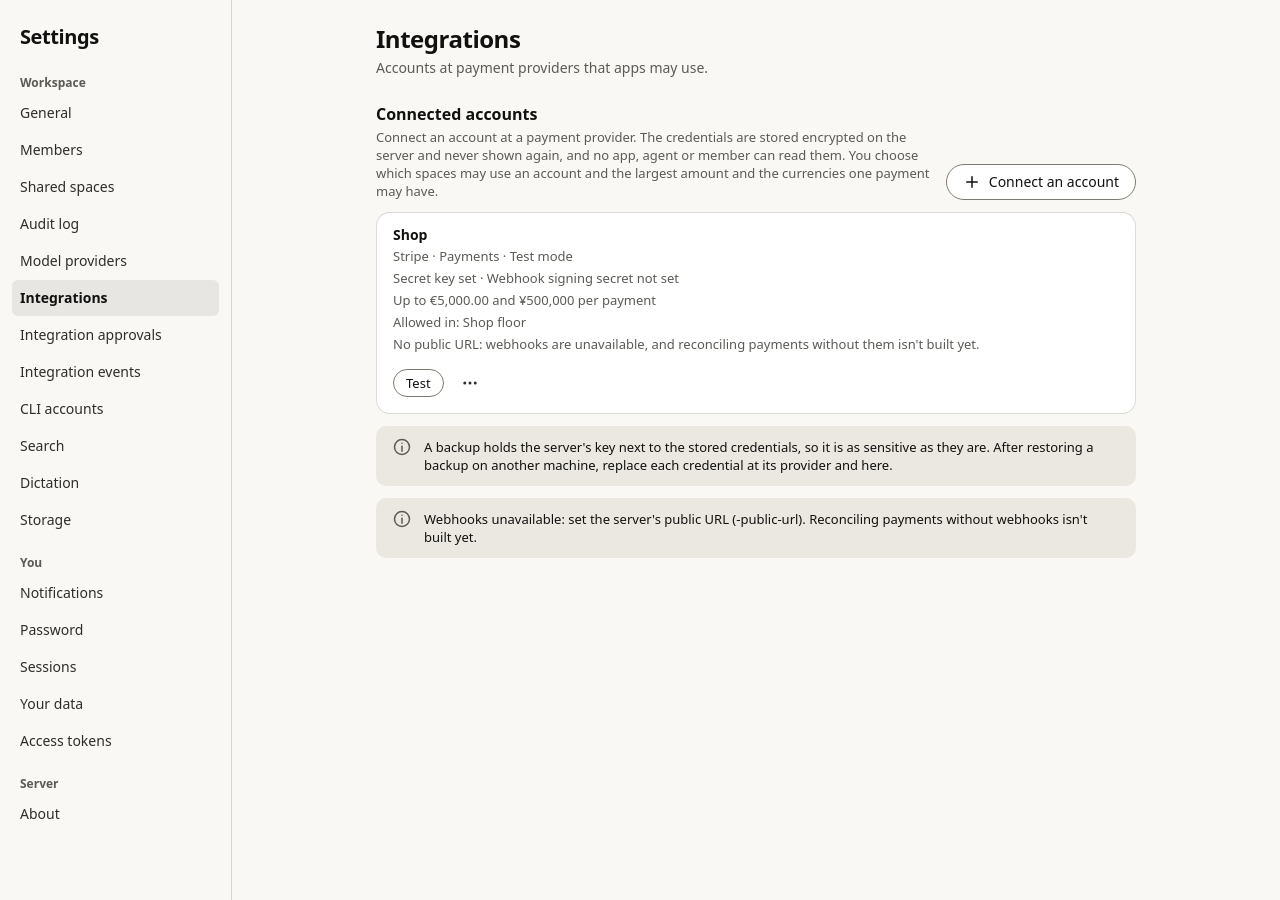
a check shows ok, or the code of what is wrong, never anything of the provider
The image size is (1280, 900).
Click the button with aria-label "Test Shop" at (418, 383), box [393, 369, 444, 397]
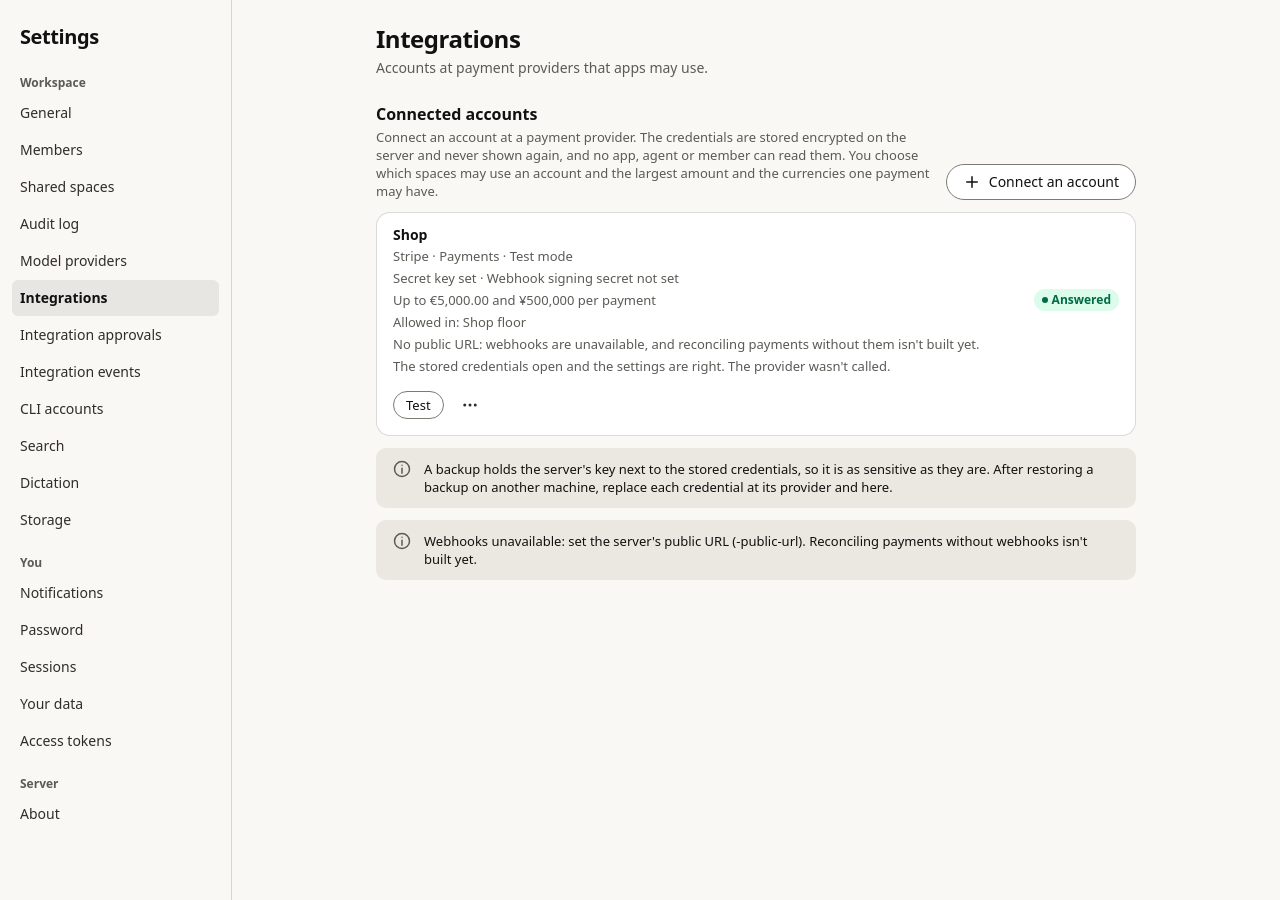
Now the text "The stored credentials open" shows "The provider wasn't called", box [393, 357, 890, 375]
Click the button with aria-label "Test Shop" at (418, 405), box [393, 391, 444, 419]
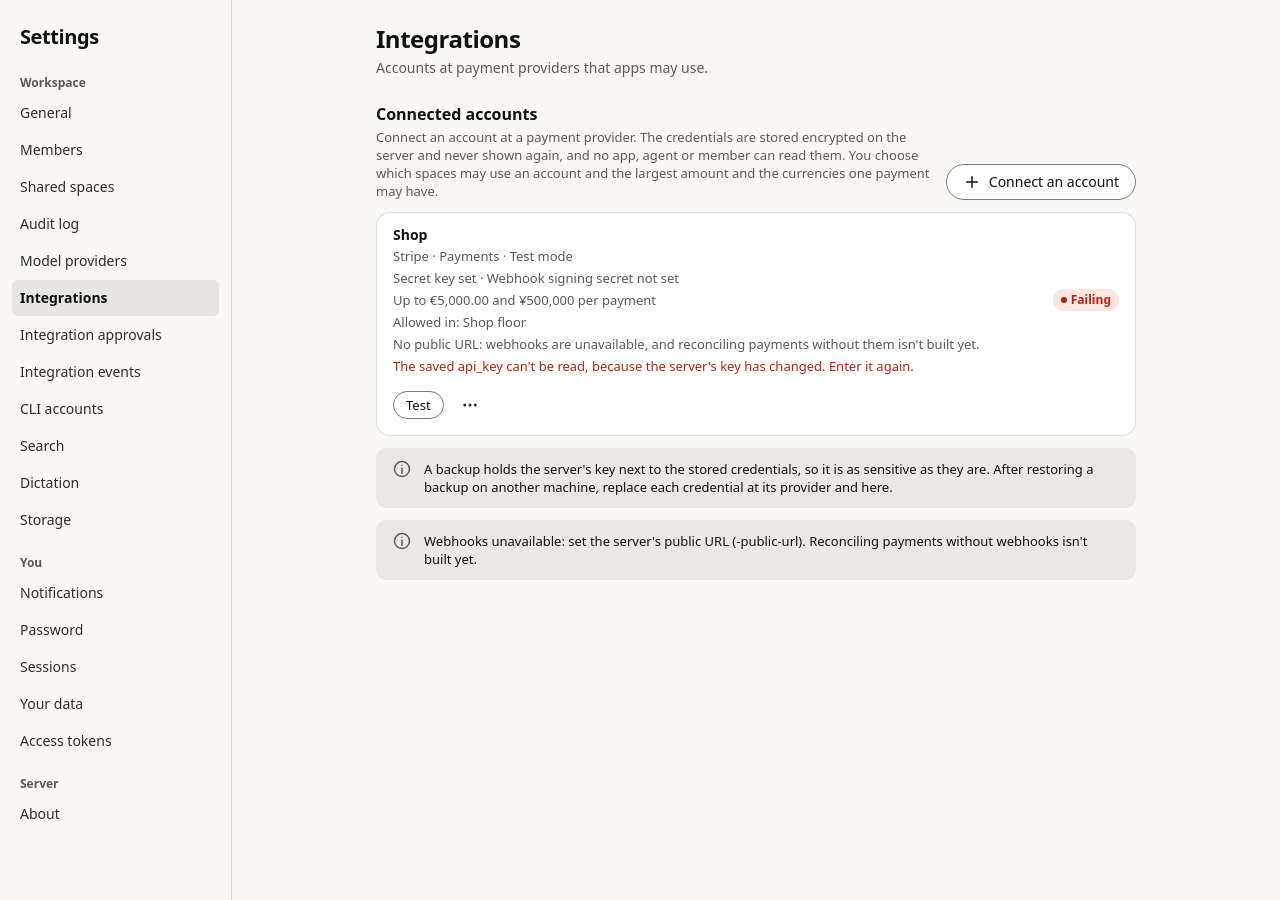
Now the text "can't be read, because the server's key has changed" is shown, box [393, 357, 914, 375]
